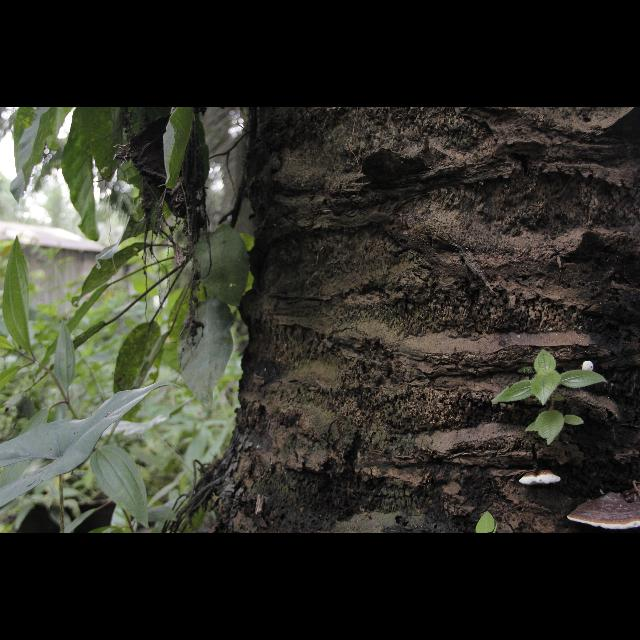ganoderma: (568, 485, 640, 532), (519, 471, 563, 488)
primordium: (583, 361, 595, 373)
